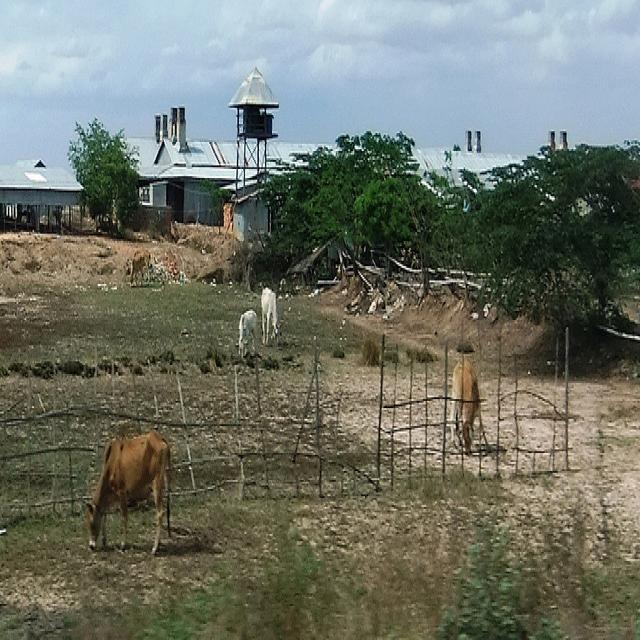cow: (82, 426, 171, 557), (450, 356, 488, 453), (260, 282, 280, 342), (237, 307, 258, 356)
